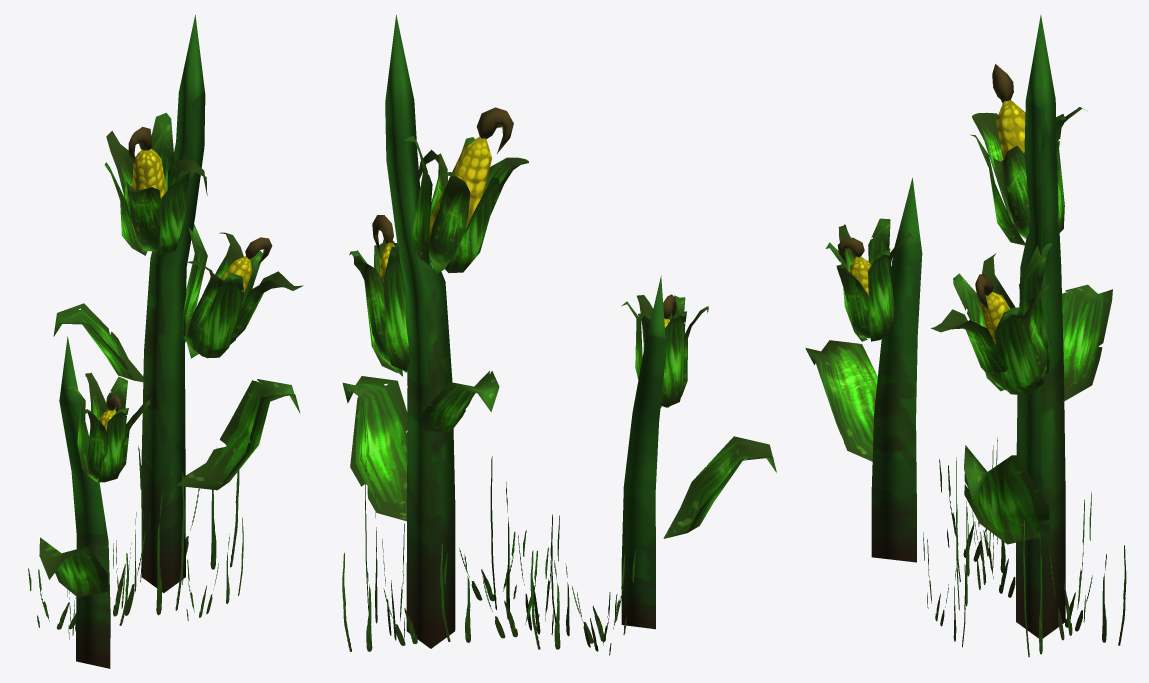
File: corn_stage3.FBX
3 views of the same model, side by side, from view 1: azimuth 30°, elevation 25°; view 2: azimuth 150°, elevation 25°; view 3: azimuth 270°, elevation 25° (orthographic). The views are drawn at different scales.
Parts seen in each view (by area): view 1: corn_stage3; view 2: corn_stage3; view 3: corn_stage3.
Boxes of the visible parts, <box> form: corn_stage3: <box>28,15,303,668</box>; corn_stage3: <box>342,15,776,655</box>; corn_stage3: <box>805,14,1126,657</box>.
Bounding box in the file's own units: 3.61 × 5.97 × 2.82.
1 material, 1 textured.
